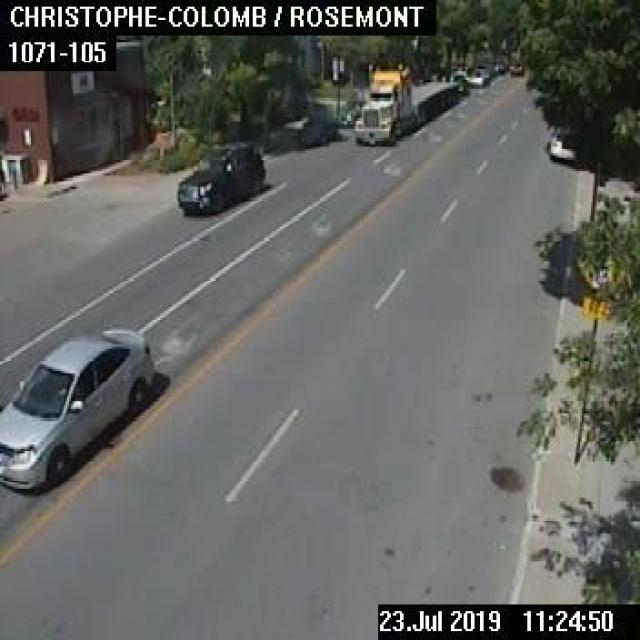vehicle: (0, 329, 153, 491), (352, 63, 457, 142), (175, 140, 262, 213), (296, 114, 336, 144), (548, 128, 574, 157), (336, 97, 362, 125), (466, 68, 488, 85), (508, 60, 523, 74)
